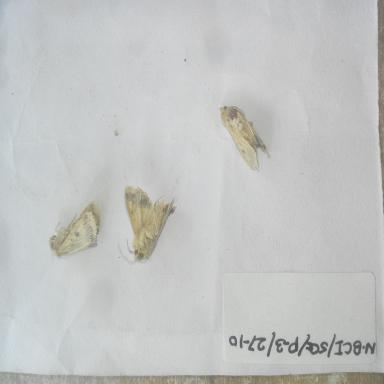abw: (114, 182, 186, 267), (215, 88, 278, 176), (46, 193, 106, 262)
